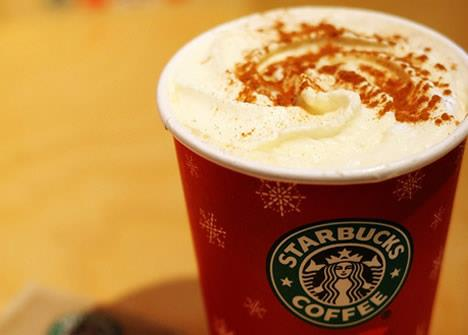starbucks: (268, 215, 415, 323)
